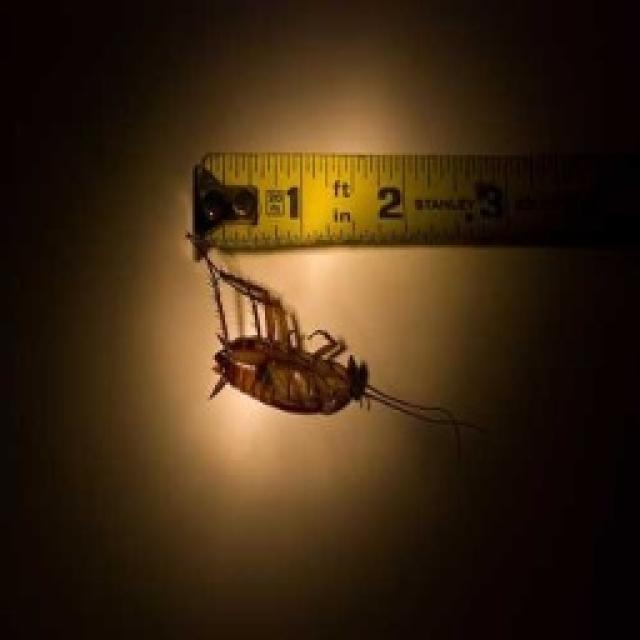cockroach: (138, 276, 432, 447)
